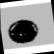correct: (4, 16, 43, 47)
